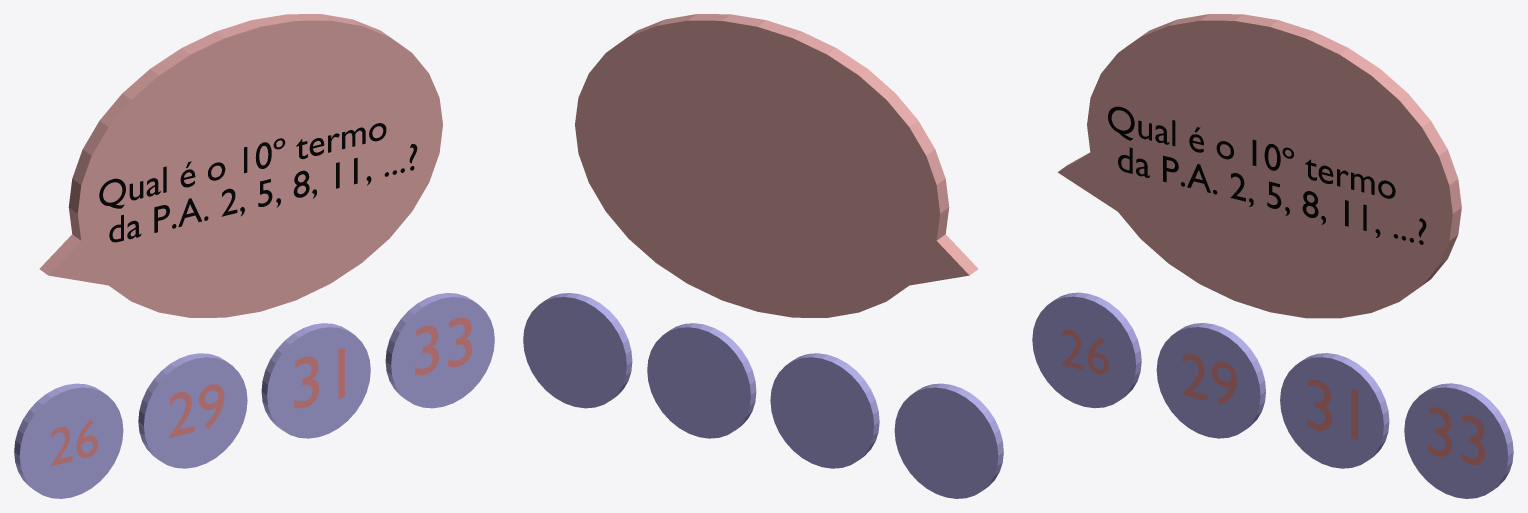
File: 1PERGUNTA.fbx
3 views of the same model, side by side, from view 1: azimuth 30°, elevation 25°; view 2: azimuth 150°, elevation 25°; view 3: azimuth 330°, elevation 25° (orthographic).
Visible parts, largest first — view 1: 1PERGUNTA, C)31, B)29, D)33, A)26; view 2: 1PERGUNTA, C)31, B)29, D)33, A)26; view 3: 1PERGUNTA, D)33, B)29, C)31, A)26.
Boxes of the visible parts, x1,y1,x2,y2 form: 1PERGUNTA: (39, 14, 442, 317); C)31: (261, 323, 370, 438); B)29: (138, 353, 247, 468); D)33: (385, 293, 494, 408); A)26: (14, 383, 123, 498); 1PERGUNTA: (575, 14, 978, 317); C)31: (647, 323, 756, 438); B)29: (770, 353, 879, 468); D)33: (523, 293, 632, 408); A)26: (894, 383, 1003, 498); 1PERGUNTA: (1057, 14, 1461, 318); D)33: (1404, 383, 1513, 498); B)29: (1156, 323, 1265, 438); C)31: (1280, 353, 1389, 468); A)26: (1032, 292, 1141, 408).
Size of the model in its own units: 260 by 223 by 8.85.
